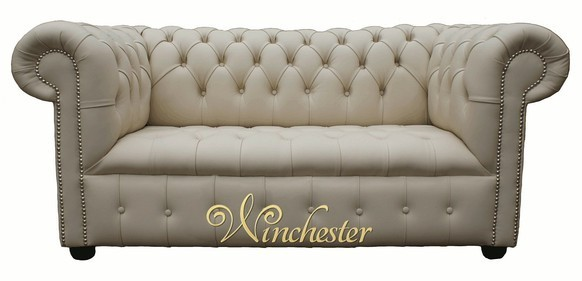chairs: (7, 18, 571, 261)
